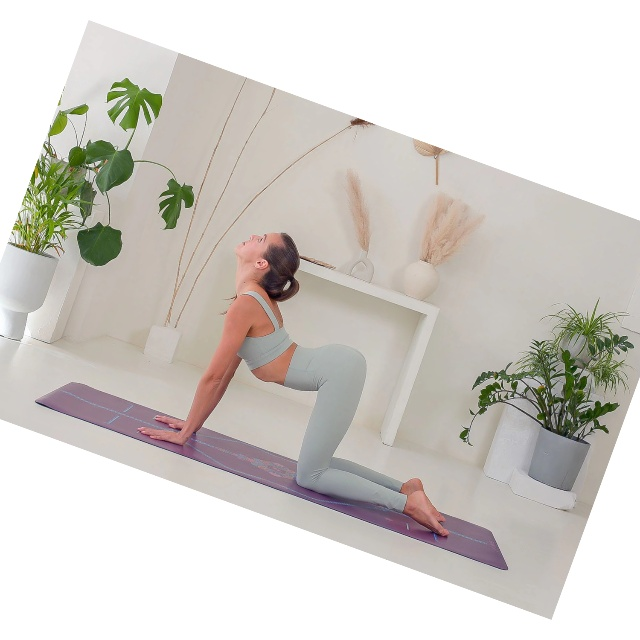Cow_Pose: (137, 230, 451, 538)
